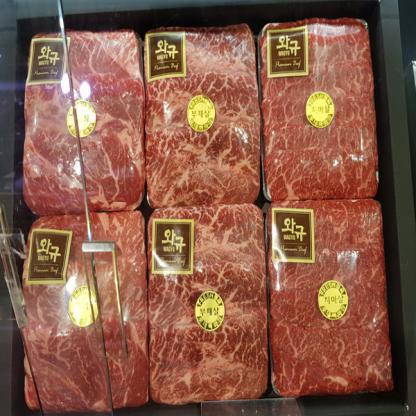beef: (264, 195, 388, 391), (132, 33, 262, 207), (143, 213, 264, 399), (256, 32, 370, 203), (32, 35, 140, 207)
